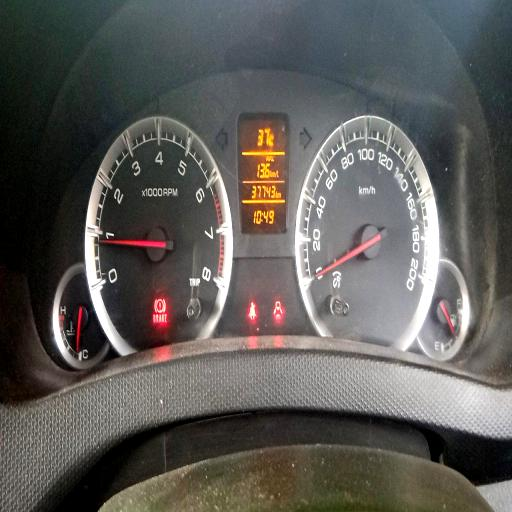belt: (248, 302, 256, 320)
brake_system_fault: (154, 297, 166, 314)
tachometer: (84, 113, 234, 358)
